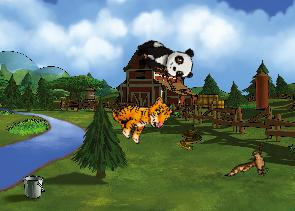eagle: (224, 135, 279, 193)
panda: (132, 38, 197, 80)
tiger: (106, 81, 176, 150)
